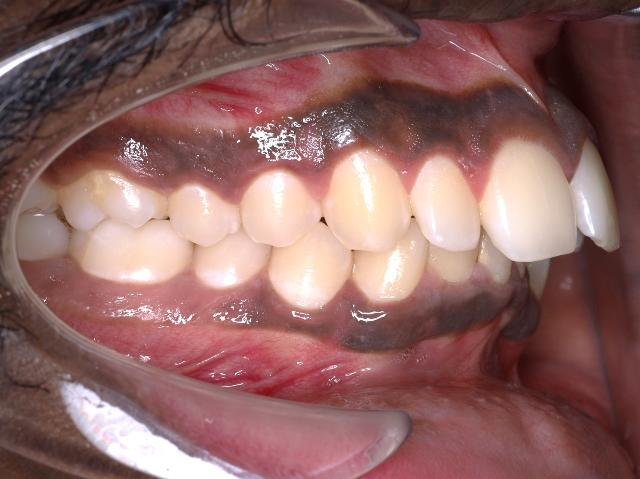canine class II 1/4: (266, 131, 428, 314)
molar class I: (58, 171, 192, 291)
